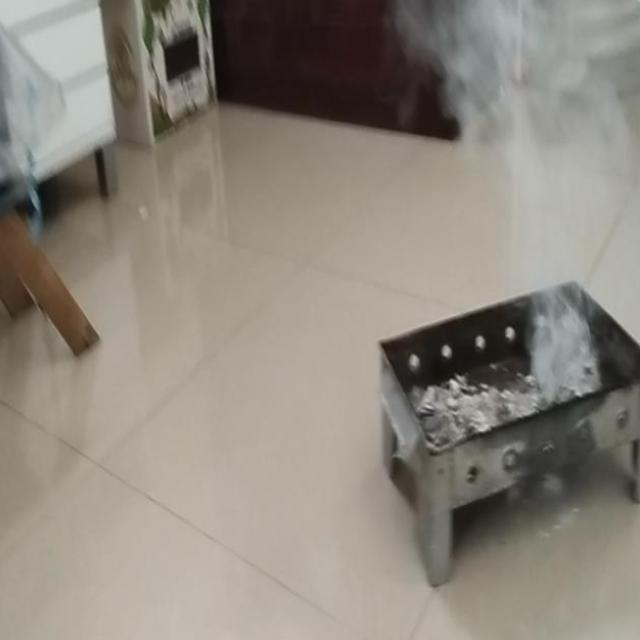fire: (396, 0, 628, 165), (493, 165, 624, 384)
